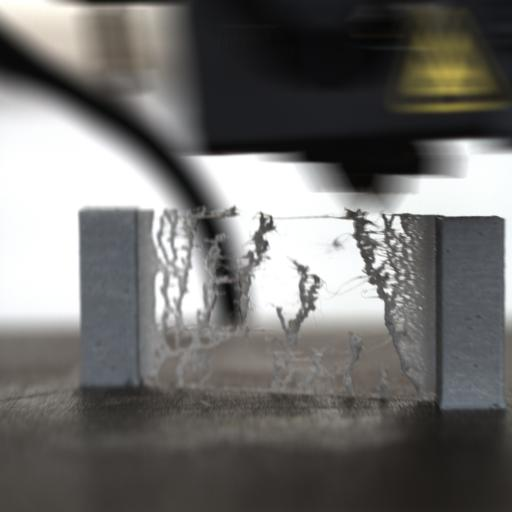stringing: (150, 205, 278, 389), (337, 206, 433, 398), (338, 331, 367, 400)
